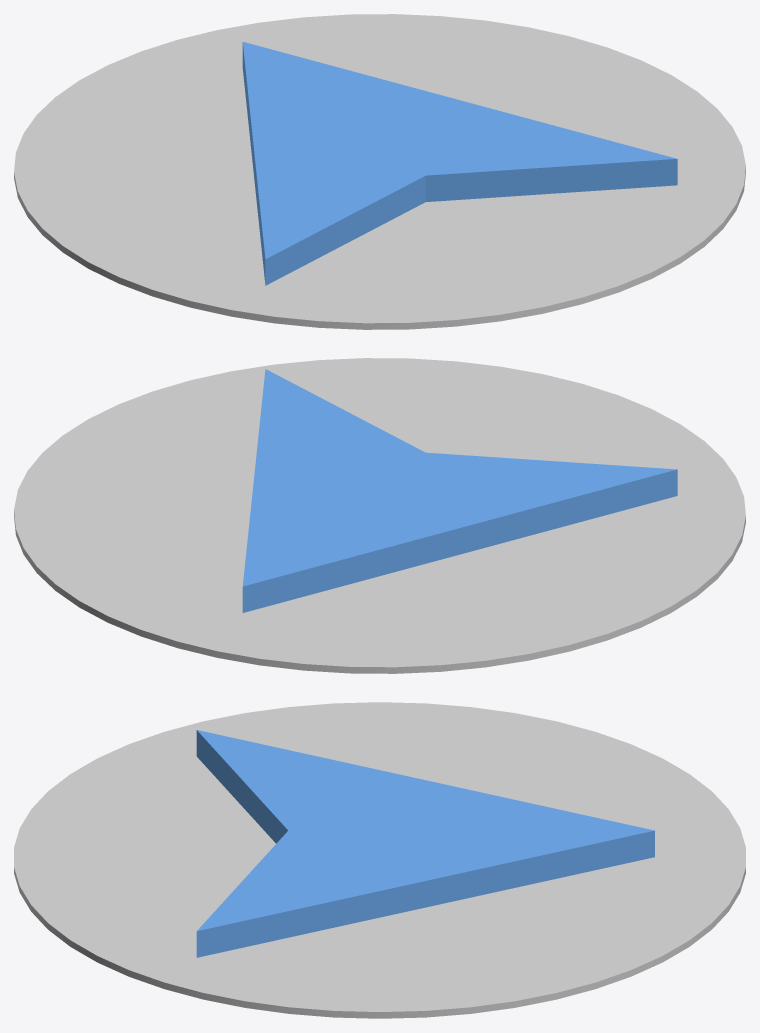
File: Cursor.glb
The picture shows the model from 3 angles, top to bottom: view 1: azimuth 30°, elevation 25°; view 2: azimuth 150°, elevation 25°; view 3: azimuth 270°, elevation 25°; orthographic projection.
Visible parts, largest first — view 1: Cylinder, Arrow; view 2: Cylinder, Arrow; view 3: Cylinder, Arrow.
Boxes of the visible parts, bbox=[...] form: Cylinder: bbox=[14, 14, 745, 329]; Arrow: bbox=[242, 42, 677, 285]; Cylinder: bbox=[14, 358, 745, 673]; Arrow: bbox=[242, 369, 677, 612]; Cylinder: bbox=[14, 702, 745, 1018]; Arrow: bbox=[196, 730, 654, 957].
Size of the model in its own units: 200 by 10 by 200.
